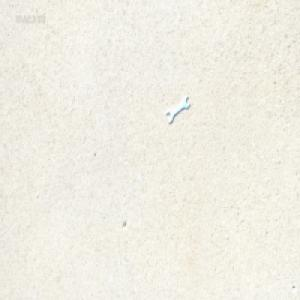Wrench: (164, 94, 187, 122)
